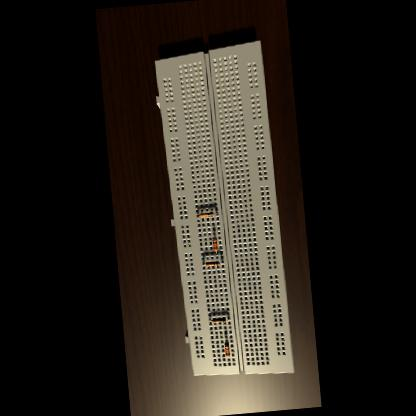breadboard: (151, 40, 294, 382)
resistor: (212, 237, 218, 252), (212, 318, 226, 324), (200, 212, 214, 218), (225, 342, 230, 358), (205, 262, 219, 266)
wire: (219, 260, 223, 264), (225, 318, 228, 321), (210, 318, 212, 321), (203, 262, 205, 265), (214, 213, 217, 214), (214, 233, 215, 236), (198, 216, 200, 217), (216, 252, 217, 253)
